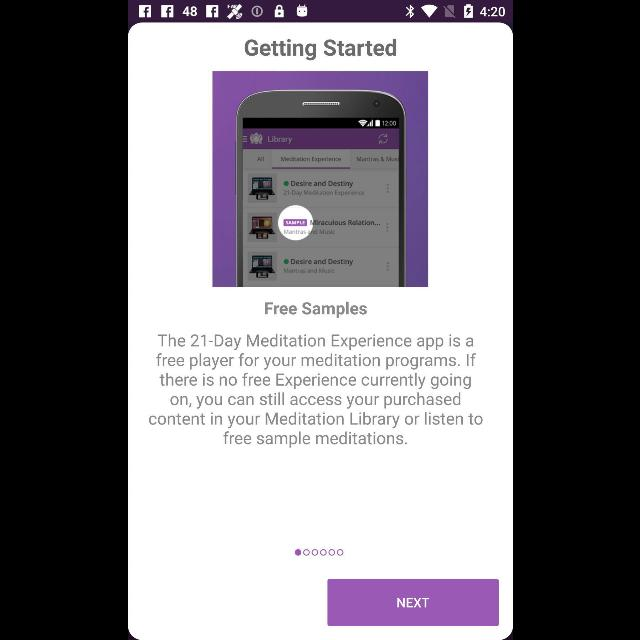image: (212, 71, 428, 287)
pageindicator: (294, 548, 344, 556)
text: (148, 334, 482, 448), (244, 38, 396, 62), (264, 302, 366, 318)
textbutton: (327, 578, 498, 626)
uppertaskbar: (128, 1, 512, 23)
